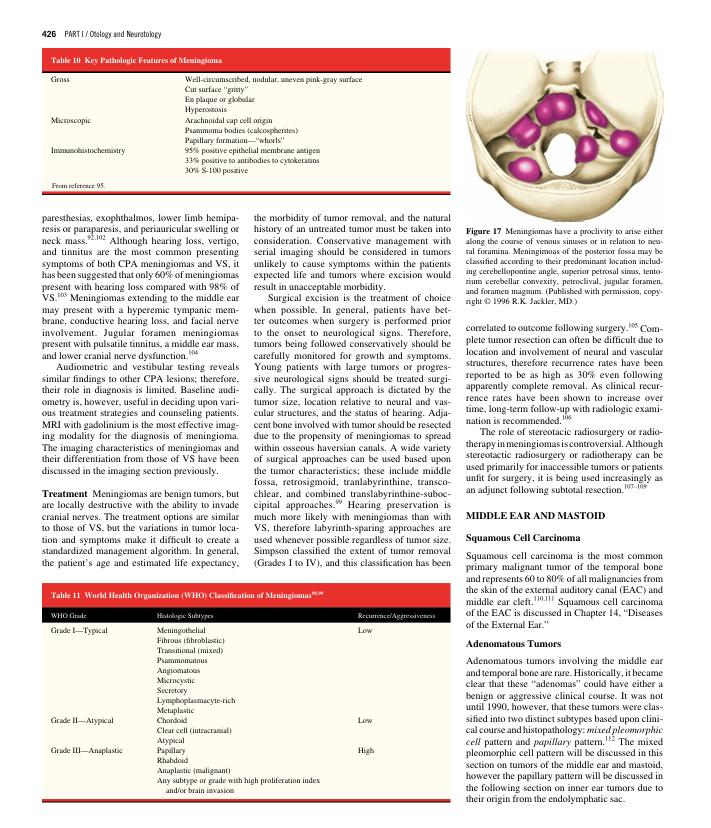caption: (465, 227, 666, 308), (49, 589, 325, 601), (49, 55, 224, 66)
header: (64, 30, 163, 40)
image: (462, 40, 669, 226)
section-heading: (464, 510, 608, 520)
sub-section-heading: (465, 531, 582, 544), (464, 638, 563, 650)
table: (42, 607, 451, 803), (43, 70, 450, 194)
text: (40, 212, 241, 570), (252, 212, 453, 569), (465, 322, 665, 497), (464, 655, 665, 806), (465, 550, 665, 629)
